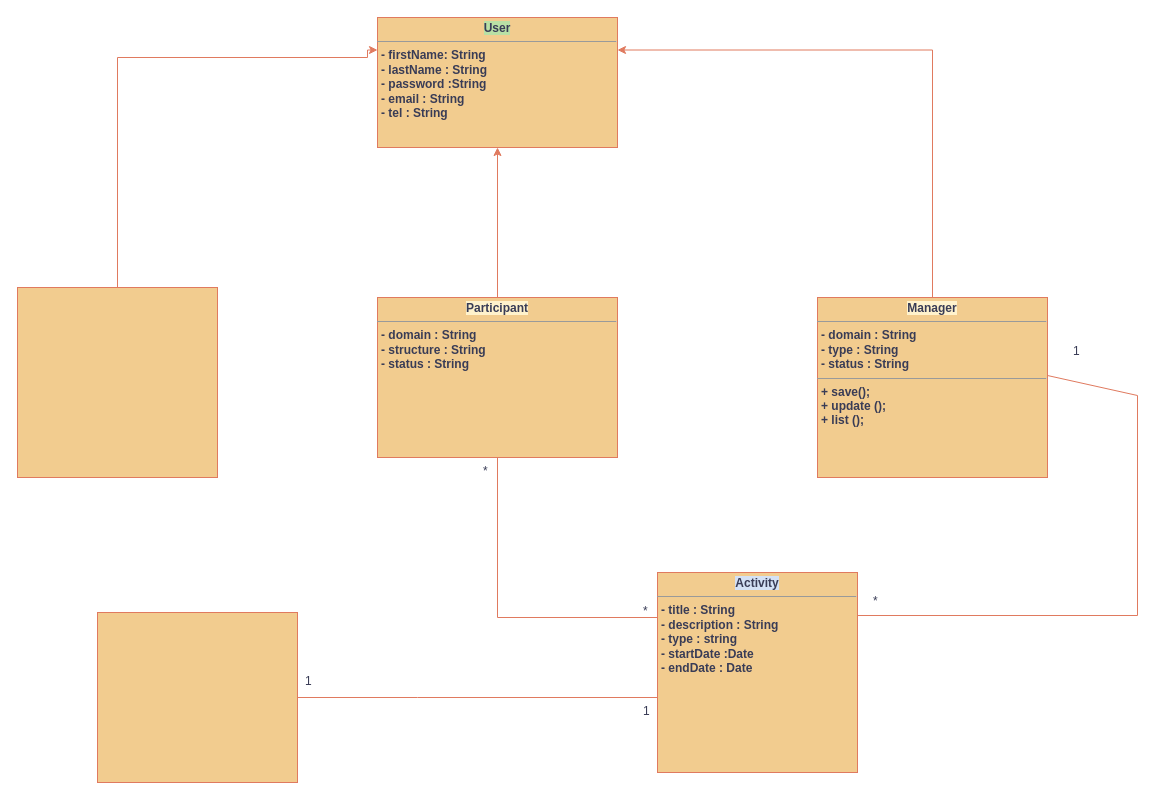
Image size: 1156x800. Some labels were removed from this diagram. The box of each missing label's shape, as (x1, y1, x2, y2) in pixels:
Admin - status: String + List(); + Add(); + update(); + remove (); + get();: (16, 286, 218, 478)
Exercice - year : Date - start date : Date - end date : Date - status : Date: (96, 612, 298, 782)
